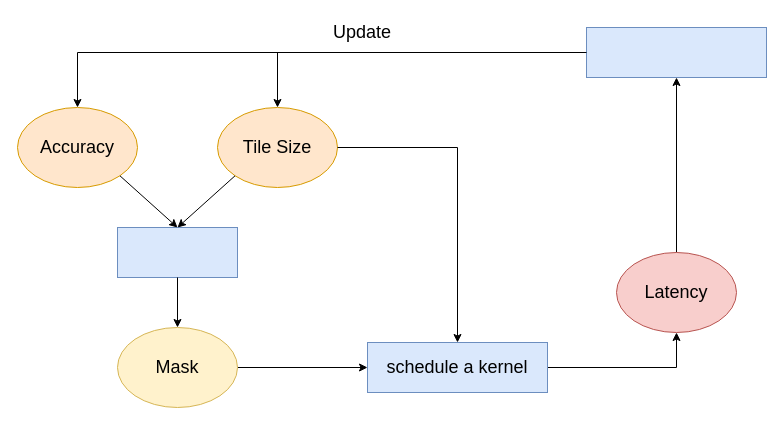
Some shapes in this 784 by 425 pixel diagram are drawn without their labels. The shapes that lost their labels are listed below. From the top down, each one's centre as x and y in pixels, then its label:
At (x=676, y=52): "Cost Model".
At (x=177, y=252): "Prune".
